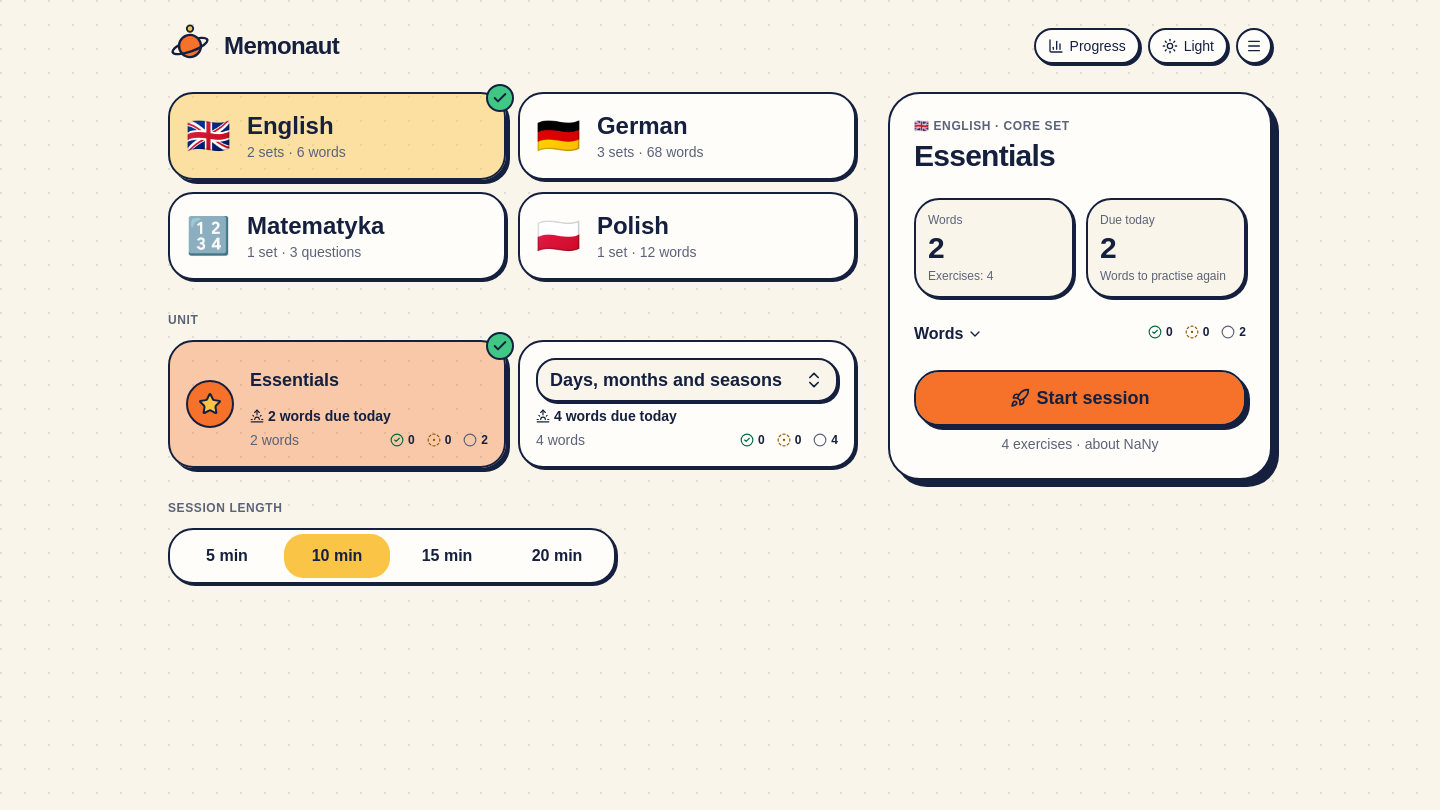
Test case: setup offers each subject with its core set selected first
Click the radio button named "German".
click(687, 136)  # box [518, 92, 856, 180]
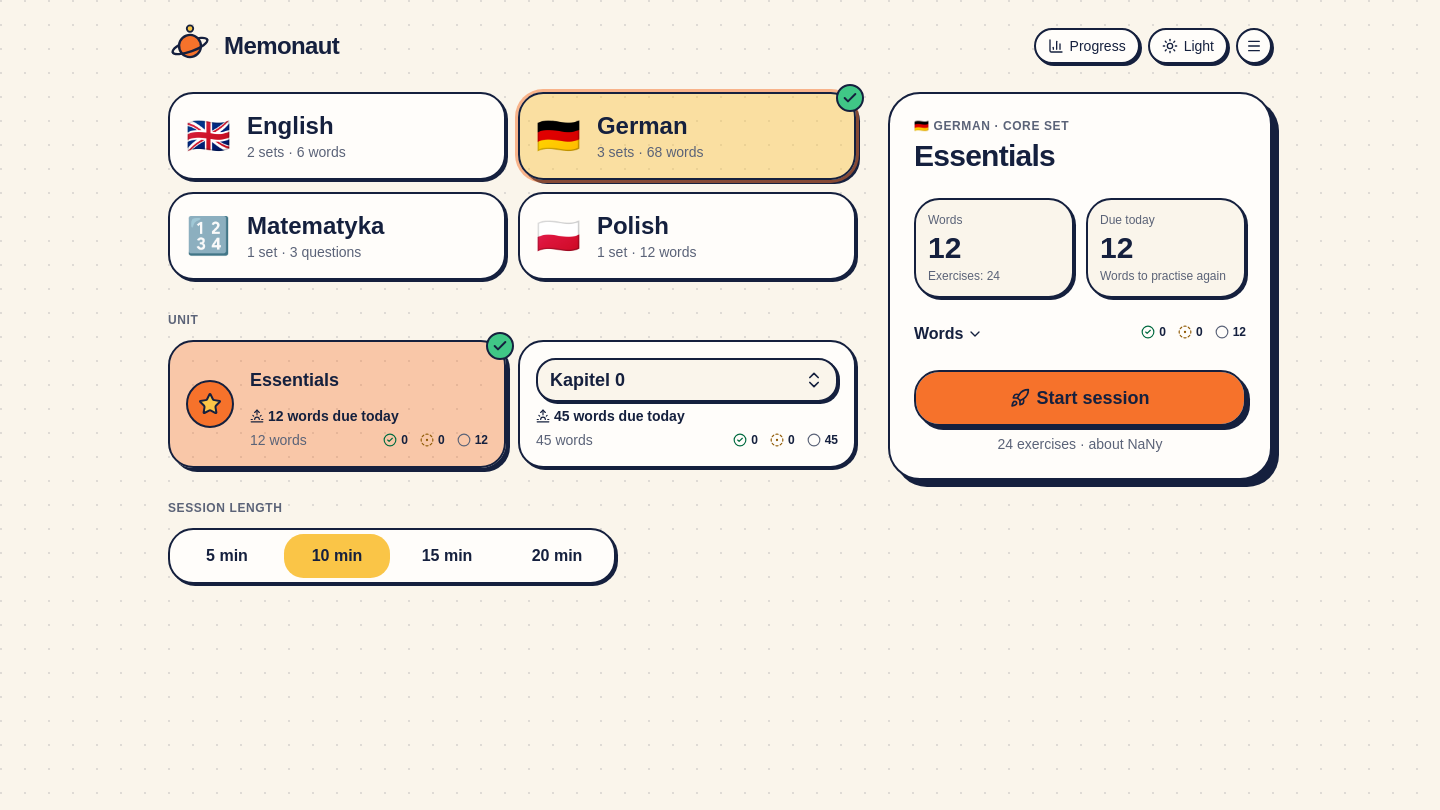
Expected: the radio button named "Essentials" is checked, [168, 340, 506, 468]
Expected: the 1st text "12" is shown, [928, 231, 961, 264]
